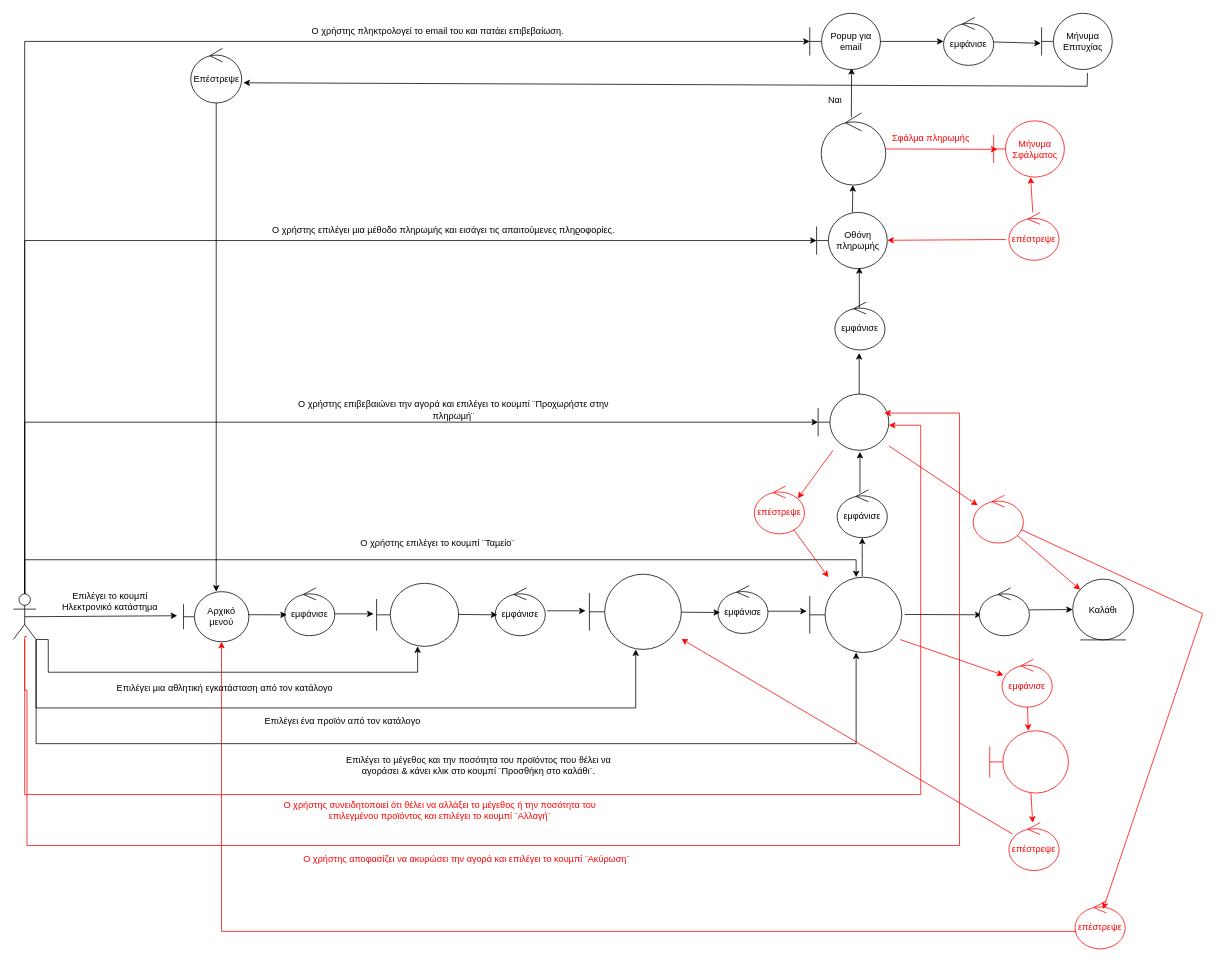
Some shapes in this 1222 by 962 pixel diagram are drawn without their labels. The box of each missing label's shape, as (x1, y1, x2, y2) in pixels:
User: (13, 593, 36, 640)
αφαίρεσε προιοντα: (972, 494, 1023, 543)
Ελεγχος και εξαργύρωση Athlete Points: (820, 112, 886, 185)
Καλάθι του χρήστη: (817, 393, 889, 450)
Κατάλογος διαθέσιµων αθλητικών εγκαταστάσεων: (376, 583, 459, 646)
Λίστα µε διαθέσιµα προϊόντα από την επιλεγµένη αθλητική εγκατάσταση: (589, 573, 681, 649)
Μήνυμα Μη διαθεσιμότητας: (989, 730, 1068, 793)
Πληροφορίες σχετικά µε το επιλεγµένο προϊόν: (809, 576, 902, 652)
πρόσθεσε: (978, 587, 1029, 636)
